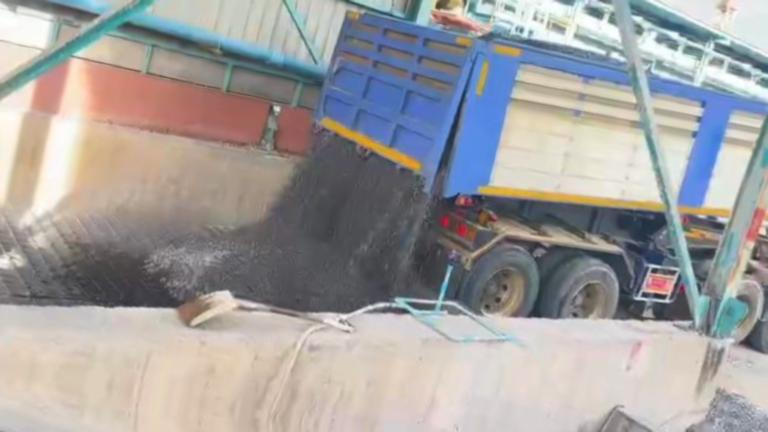gravel: (145, 137, 428, 312), (683, 391, 768, 432)
